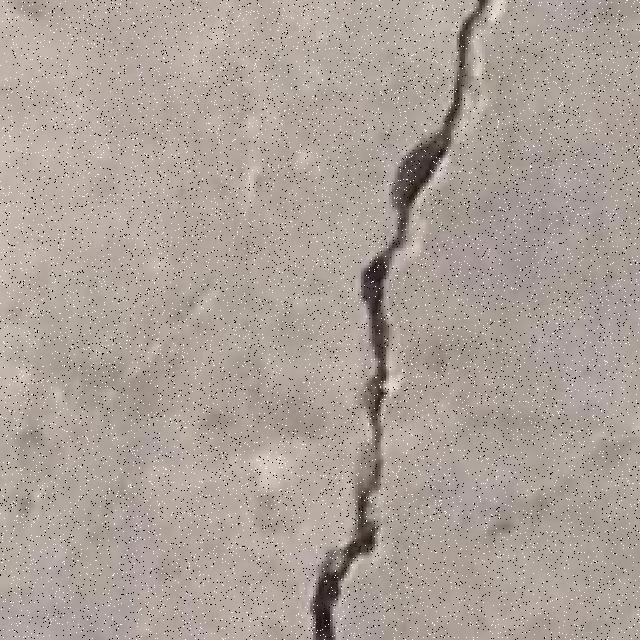Crack: (308, 0, 498, 637)
